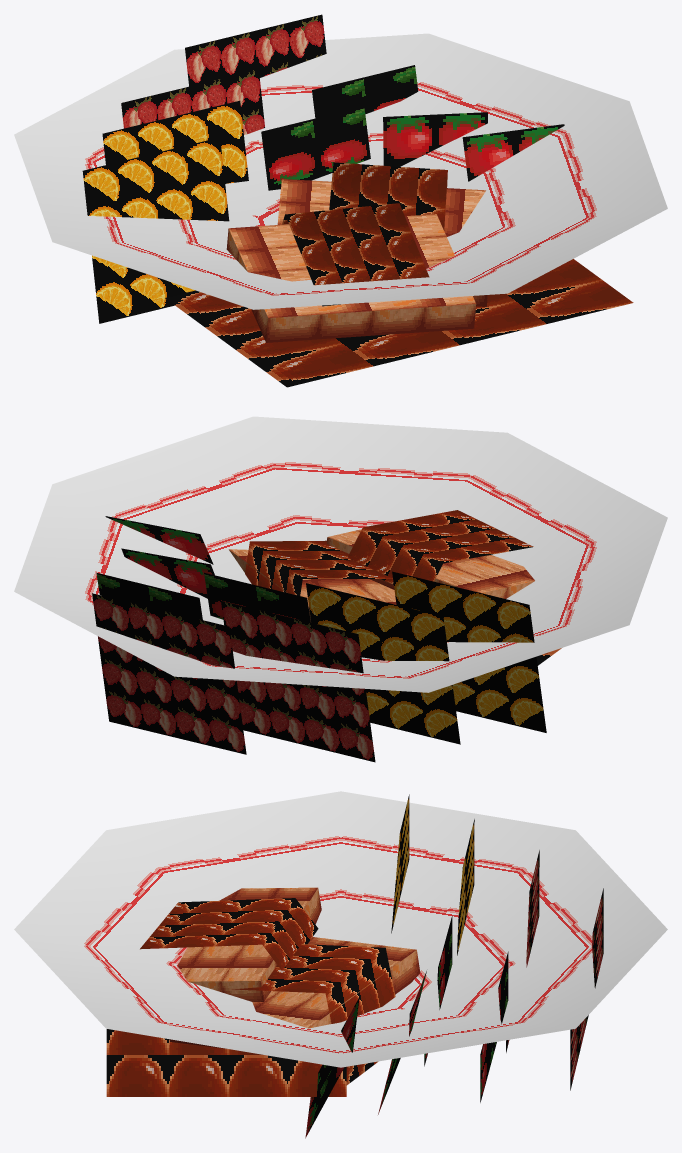
File: 5570u_meet00_ss.gltf
3 views of the same model, one above another, from view 1: azimuth 30°, elevation 25°; view 2: azimuth 150°, elevation 25°; view 3: azimuth 270°, elevation 25° (orthographic).
Visible parts, largest first — view 1: 5570u_meet00_ss; view 2: 5570u_meet00_ss; view 3: 5570u_meet00_ss.
Part boxes in pixels (bbox=[...]): 5570u_meet00_ss: bbox=[14, 14, 667, 387]; 5570u_meet00_ss: bbox=[14, 416, 667, 762]; 5570u_meet00_ss: bbox=[14, 791, 667, 1138].
Bounding box in the file's own units: 0.8838 × 0.2175 × 0.8838.
6 materials, 6 textured.
